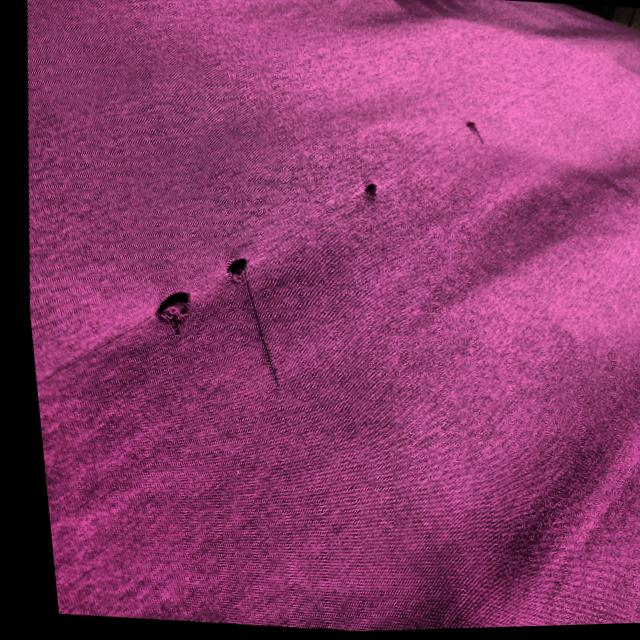Hole: (354, 182, 380, 209)
Stitch: (200, 251, 299, 407), (460, 120, 489, 153)
